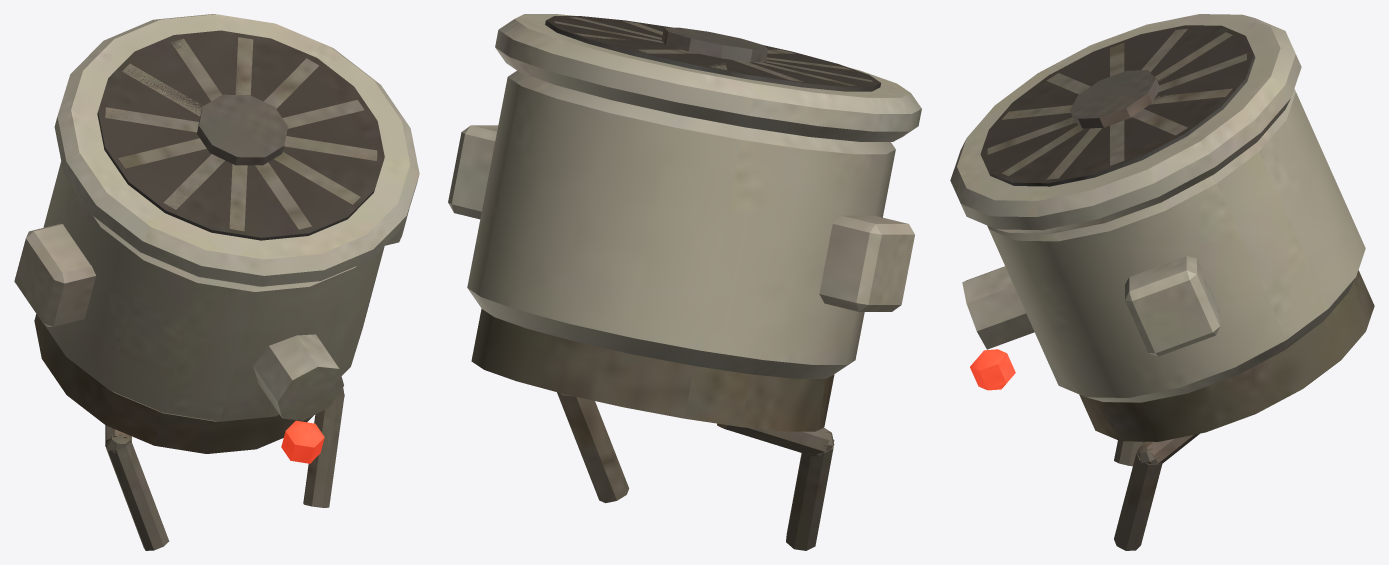
The model's file is construction-robot.glb.
The picture shows the model from 3 angles, left to right: view 1: azimuth 30°, elevation 25°; view 2: azimuth 150°, elevation 25°; view 3: azimuth 270°, elevation 25°; orthographic projection. The views are drawn at different scales.
Visible parts, largest first — view 1: body, anim_arms, anim_lamp_nozzle; view 2: body, anim_arms; view 3: body, anim_arms, anim_lamp_nozzle.
Boxes of the visible parts, bbox=[...] form: body: bbox=[14, 14, 419, 453]; anim_arms: bbox=[105, 388, 344, 550]; anim_lamp_nozzle: bbox=[281, 420, 324, 463]; body: bbox=[448, 14, 921, 431]; anim_arms: bbox=[557, 392, 834, 550]; body: bbox=[950, 14, 1374, 441]; anim_arms: bbox=[1114, 433, 1199, 550]; anim_lamp_nozzle: bbox=[970, 349, 1015, 390].
Bounding box in the file's own units: 0.702 × 0.8474 × 0.7105.
2 materials, 2 textured.
